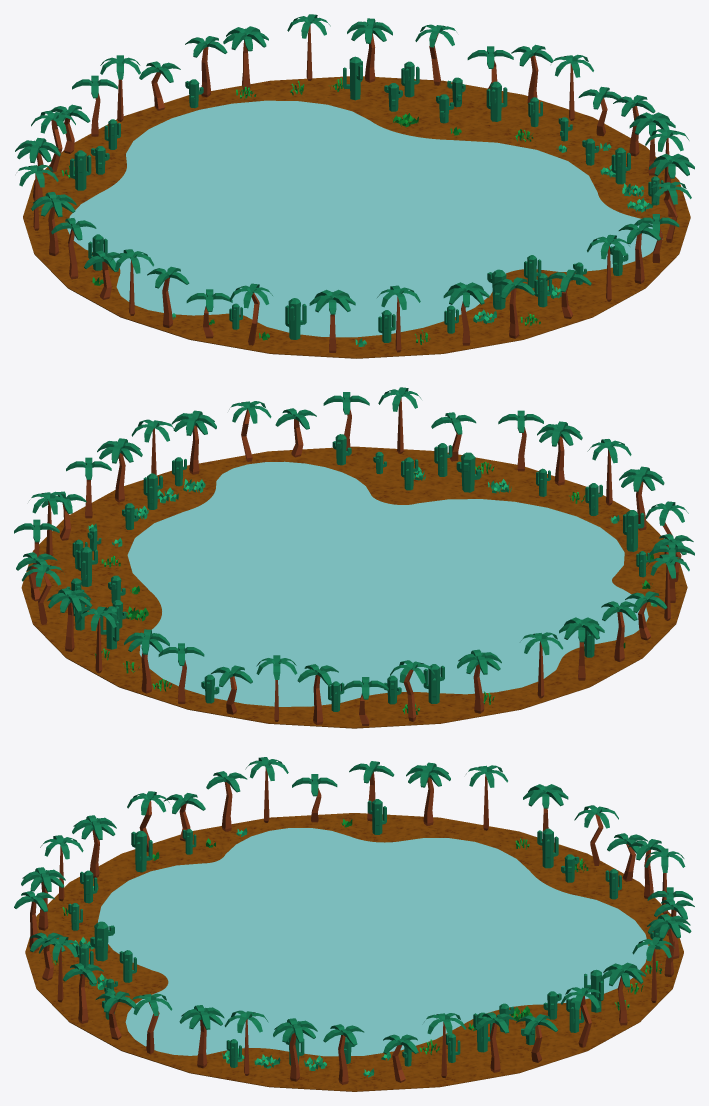
Rendered from oasis.glb.
The picture shows the model from 3 angles, top to bottom: view 1: azimuth 30°, elevation 25°; view 2: azimuth 150°, elevation 25°; view 3: azimuth 270°, elevation 25°; orthographic projection.
Parts seen in each view (by area): view 1: mergedBlocks(Clone); view 2: mergedBlocks(Clone); view 3: mergedBlocks(Clone).
Part boxes in pixels (x1,y1,x2,y2): mergedBlocks(Clone): (15,14,694,358); mergedBlocks(Clone): (14,387,694,728); mergedBlocks(Clone): (14,757,694,1091).
Size of the model in its own units: 90.89 by 9.16 by 93.02.
6 materials, 1 textured.
